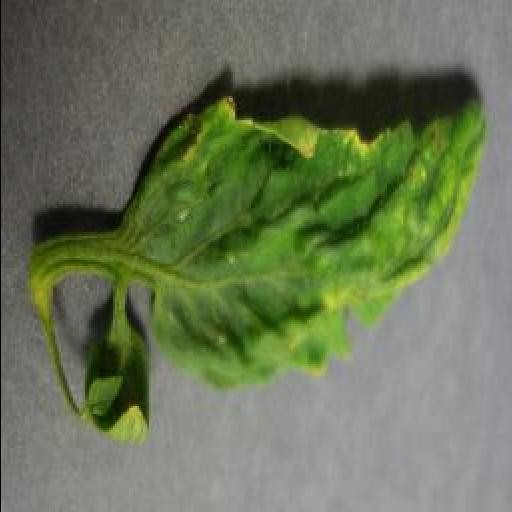disease_tomato: (134, 94, 490, 398)
